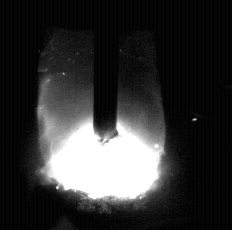arame: (94, 0, 119, 142)
poca: (38, 0, 165, 230)
